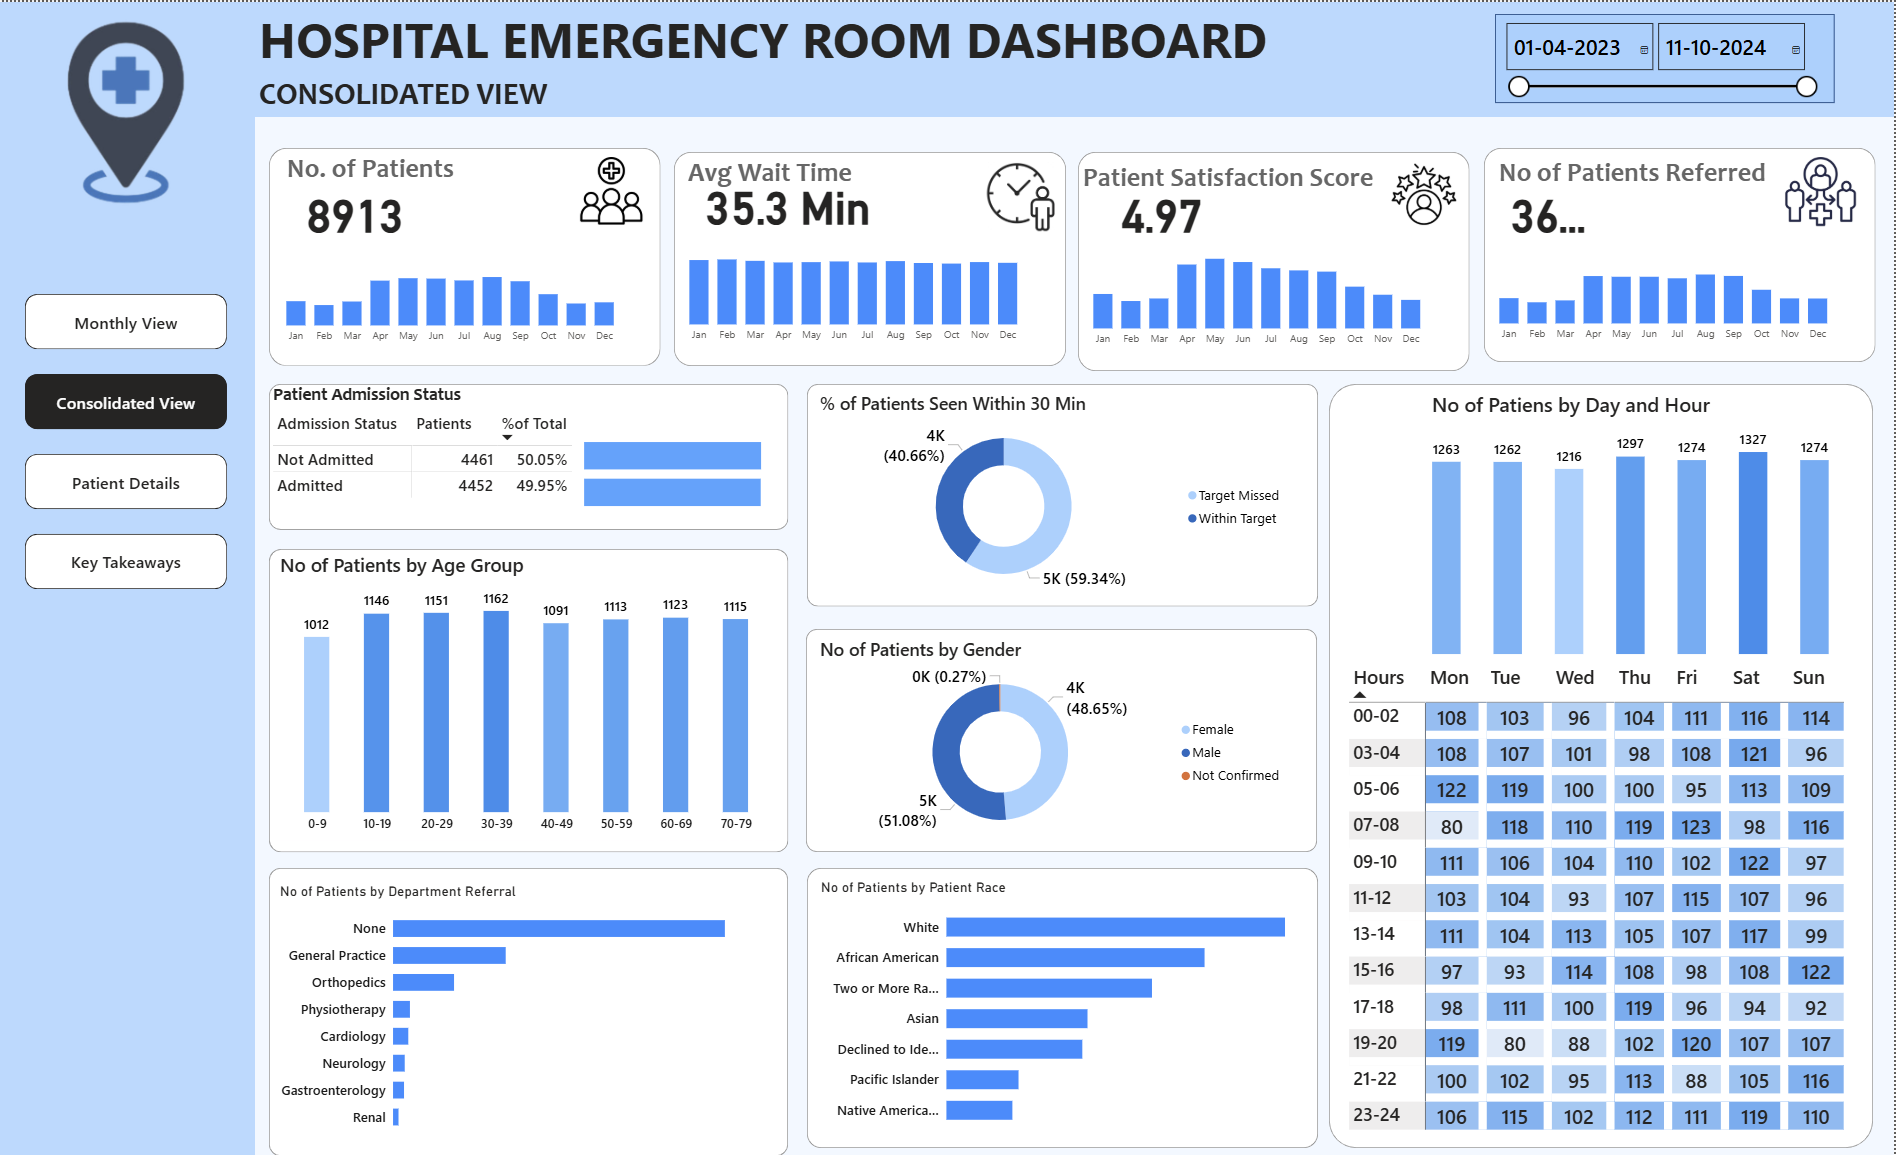

This screenshot's page, from the dashboard's own definition file:
{"tool":"powerbi","page":{"name":"Consolidated View","canvas":[2300,1400],"ordinal":1},"visuals":[{"type":"shape","box":[327.6,177.1,475,264.5],"z":0},{"type":"shape","box":[0,0,310.6,1400],"z":1000},{"type":"shape","box":[310.6,0,1989.6,139.5],"z":2000},{"type":"textbox","box":[310.6,0,1269,92.2],"z":3000},{"type":"textbox","box":[310.6,82.5,371.2,57],"z":4000},{"type":"card","fields":{"Values":["Date Table.No of Patients"]},"box":[361.5,214.7,140.7,76.4],"z":5000},{"type":"slicer","fields":{"Values":["Date Table.Date"]},"box":[1814.9,14.6,412.5,108],"z":6000},{"type":"textbox","box":[345,177.5,362.5,52.5],"z":7000},{"type":"clusteredColumnChart","fields":{"Category":["Date Table.MONTH"],"Y":["Date Table.No of Patients"]},"box":[330,292.5,435,130],"z":8000},{"type":"shape","box":[818.9,182,475.6,259.6],"z":9000},{"type":"card","fields":{"Values":["Hospital ER_Data.Avg Wait Time"]},"box":[850.4,208.7,213.5,69.2],"z":10000},{"type":"textbox","box":[831,182,361.5,53.4],"z":11000},{"type":"clusteredColumnChart","fields":{"Category":["Date Table.MONTH"],"Y":["Avg(Hospital ER_Data.Patient Waittime)"]},"box":[818.9,291.2,435.5,130],"z":12000},{"type":"shape","box":[1309,182,475,265.7],"z":13000},{"type":"card","fields":{"Values":["Hospital ER_Data.Satisfaction Score"]},"box":[1339.3,218.4,141.9,69.2],"z":14000},{"type":"textbox","box":[1310.2,188,362.7,53.4],"z":15000},{"type":"clusteredColumnChart","fields":{"Category":["Date Table.MONTH"],"Y":["Sum(Hospital ER_Data.Patient Satisfaction Score)"]},"box":[1309,296,434.3,130],"z":16000},{"type":"shape","box":[1801.6,177.1,475,259.6],"z":17000},{"type":"card","fields":{"Values":["Hospital ER_Data.No of Patients Referred"]},"box":[1814.9,214.7,128.6,77.6],"z":18000},{"type":"shape","box":[327.5,463.8,630,177],"z":19000},{"type":"textbox","box":[1814.9,182,362.7,53.4],"z":20000},{"type":"clusteredColumnChart","fields":{"Category":["Date Table.MONTH"],"Y":["Hospital ER_Data.No of Patients Referred"]},"box":[1801.6,289.9,435.5,130],"z":21000},{"type":"pivotTable","title":"Patient Admission Status","fields":{"Rows":["Hospital ER_Data.Admission Status"],"Values":["Date Table.No of Patients","Divide(Date Table.No of Patients, ScopedEval(Date Table.No of Patients, []))"]},"box":[327.5,463.8,622.5,177.5],"z":22000},{"type":"barChart","fields":{"Category":["Hospital ER_Data.Admission Status"],"Y":["Date Table.No of Patients"]},"box":[705,498.8,298.8,142.5],"z":23000},{"type":"shape","box":[327.5,663.8,630,368],"z":24000},{"type":"clusteredColumnChart","fields":{"Category":["Hospital ER_Data.Age Group"],"Y":["Date Table.No of Patients"]},"box":[336.2,667.5,608.8,350],"z":25000},{"type":"shape","box":[327.6,1050.6,629.6,349.4],"z":26000},{"type":"clusteredBarChart","fields":{"Category":["Hospital ER_Data.Department Referral"],"Y":["Date Table.No of Patients"]},"box":[336,1068.8,609,313],"z":27000},{"type":"shape","box":[980.2,463.4,620,270],"z":28000},{"type":"donutChart","title":"% of Patients Seen Within 30 Min","fields":{"Y":["Date Table.No of Patients"],"Category":["Hospital ER_Data.Waittime"]},"box":[991.2,471.9,576.3,251.1],"z":29000},{"type":"shape","box":[979,760.7,620,270.5],"z":30000},{"type":"donutChart","title":"No of Patients by Gender","fields":{"Y":["Date Table.No of Patients"],"Series":["Hospital ER_Data.Patient Gender"]},"box":[991.2,770.4,576.3,251.1],"z":31000},{"type":"shape","box":[980.2,1050.6,620,339.7],"z":32000},{"type":"clusteredBarChart","fields":{"Y":["Date Table.No of Patients"],"Category":["Hospital ER_Data.Patient Race"]},"box":[992.4,1064,576.3,313],"z":33000},{"type":"shape","box":[1613.5,463.4,660,926.9],"z":34000},{"type":"pivotTable","fields":{"Rows":["Hospital ER_Data.Waittime Interval"],"Columns":["Date Table.Day Name"],"Values":["Date Table.No of Patients"]},"box":[1632.9,797.1,628.4,579.9],"z":35000},{"type":"clusteredColumnChart","title":"No of Patiens by Day and Hour","fields":{"Category":["Date Table.Day Name"],"Y":["Date Table.No of Patients"]},"box":[1733.6,471.9,493.8,325.1],"z":36000},{"type":"image","box":[693.9,188,98.3,82.5],"z":37000},{"type":"image","box":[1190.1,194.1,99.5,83.7],"z":38000},{"type":"image","box":[2158.2,188,103.1,83.7],"z":39000},{"type":"image","box":[1673,194.1,111.6,77.6],"z":40000},{"type":"image","box":[9.7,14.6,300.9,239],"z":41000},{"type":"pageNavigator","box":[31.5,354.2,245.1,359.1],"z":42000}]}

Visuals, with their boxes in screenshot pixels (x1, y1, x2, y2), scaled from the page's 2300x1400 canvas onto the 1896x1155 screenshot:
shape: left=270, top=146, right=662, bottom=364
shape: left=0, top=0, right=256, bottom=1154
shape: left=256, top=0, right=1895, bottom=115
textbox: left=256, top=0, right=1302, bottom=76
textbox: left=256, top=68, right=562, bottom=115
card - Date Table.No of Patients: left=298, top=177, right=414, bottom=240
slicer - Date Table.Date: left=1496, top=12, right=1836, bottom=101
textbox: left=284, top=146, right=583, bottom=190
clusteredColumnChart - Date Table.MONTH x Date Table.No of Patients: left=272, top=241, right=631, bottom=349
shape: left=675, top=150, right=1067, bottom=364
card - Hospital ER_Data.Avg Wait Time: left=701, top=172, right=877, bottom=229
textbox: left=685, top=150, right=983, bottom=194
clusteredColumnChart - Date Table.MONTH x Avg(Hospital ER_Data.Patient Waittime): left=675, top=240, right=1034, bottom=347
shape: left=1079, top=150, right=1471, bottom=369
card - Hospital ER_Data.Satisfaction Score: left=1104, top=180, right=1221, bottom=237
textbox: left=1080, top=155, right=1379, bottom=199
clusteredColumnChart - Date Table.MONTH x Sum(Hospital ER_Data.Patient Satisfaction Score): left=1079, top=244, right=1437, bottom=351
shape: left=1485, top=146, right=1877, bottom=360
card - Hospital ER_Data.No of Patients Referred: left=1496, top=177, right=1602, bottom=241
shape: left=270, top=383, right=789, bottom=529
textbox: left=1496, top=150, right=1795, bottom=194
clusteredColumnChart - Date Table.MONTH x Hospital ER_Data.No of Patients Referred: left=1485, top=239, right=1844, bottom=346
"Patient Admission Status" pivotTable: left=270, top=383, right=783, bottom=529
barChart - Hospital ER_Data.Admission Status x Date Table.No of Patients: left=581, top=412, right=827, bottom=529
shape: left=270, top=548, right=789, bottom=851
clusteredColumnChart - Hospital ER_Data.Age Group x Date Table.No of Patients: left=277, top=551, right=779, bottom=839
shape: left=270, top=867, right=789, bottom=1154
clusteredBarChart - Hospital ER_Data.Department Referral x Date Table.No of Patients: left=277, top=882, right=779, bottom=1140
shape: left=808, top=382, right=1319, bottom=605
"% of Patients Seen Within 30 Min" donutChart: left=817, top=389, right=1292, bottom=596
shape: left=807, top=628, right=1318, bottom=851
"No of Patients by Gender" donutChart: left=817, top=636, right=1292, bottom=843
shape: left=808, top=867, right=1319, bottom=1147
clusteredBarChart - Date Table.No of Patients x Hospital ER_Data.Patient Race: left=818, top=878, right=1293, bottom=1136
shape: left=1330, top=382, right=1874, bottom=1147
pivotTable - Hospital ER_Data.Waittime Interval x Date Table.Day Name: left=1346, top=658, right=1864, bottom=1136
"No of Patiens by Day and Hour" clusteredColumnChart: left=1429, top=389, right=1836, bottom=658
image: left=572, top=155, right=653, bottom=223
image: left=981, top=160, right=1063, bottom=229
image: left=1779, top=155, right=1864, bottom=224
image: left=1379, top=160, right=1471, bottom=224
image: left=8, top=12, right=256, bottom=209
pageNavigator: left=26, top=292, right=228, bottom=588
